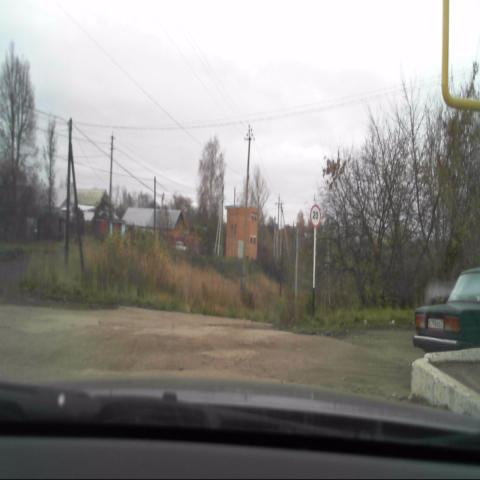3_24: (310, 204, 321, 227)
